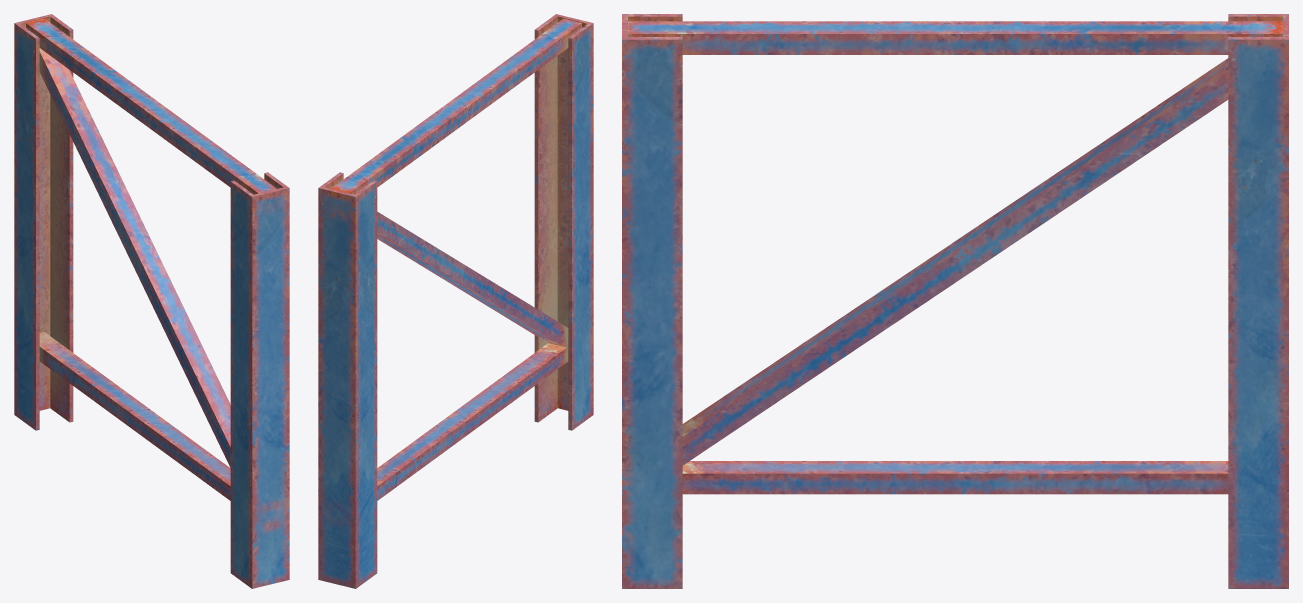
The model's file is wall_1.glb.
3 renders of one model, left to right at view 1: azimuth 30°, elevation 25°; view 2: azimuth 150°, elevation 25°; view 3: azimuth 270°, elevation 25°, orthographic. The views are drawn at different scales.
Parts seen in each view (by area): view 1: prack_h1s; view 2: prack_h1s; view 3: prack_h1s.
Part boxes in pixels (x1,y1,x2,y2): prack_h1s: [14, 14, 289, 588]; prack_h1s: [318, 14, 593, 588]; prack_h1s: [622, 14, 1288, 588].
Bounding box in the file's own units: 0.2 × 2 × 2.2.
Materials: 1 (1 with a texture image).
